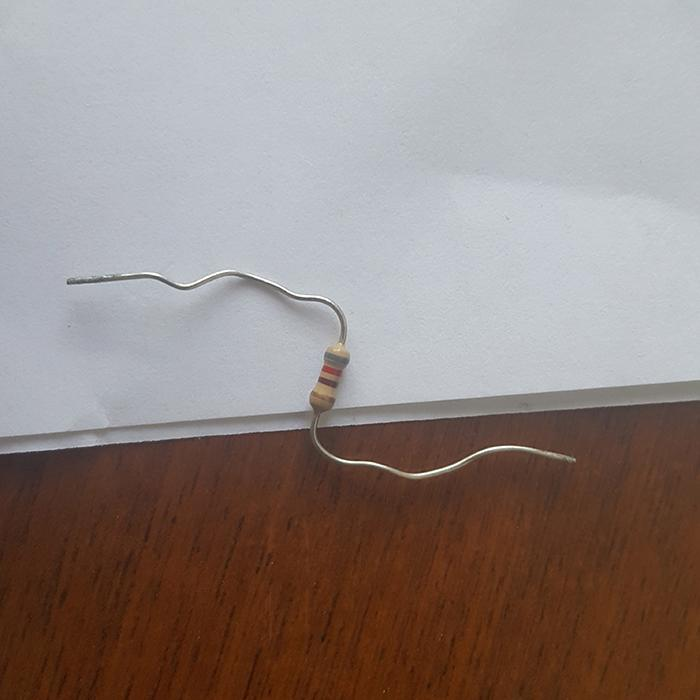resistor: (308, 340, 351, 413)
